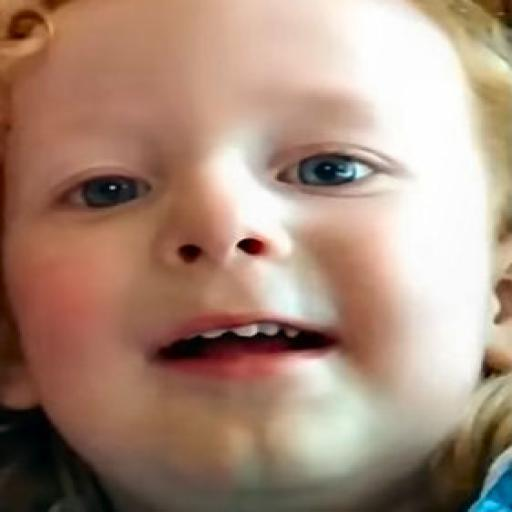Autism: (7, 10, 508, 512)
